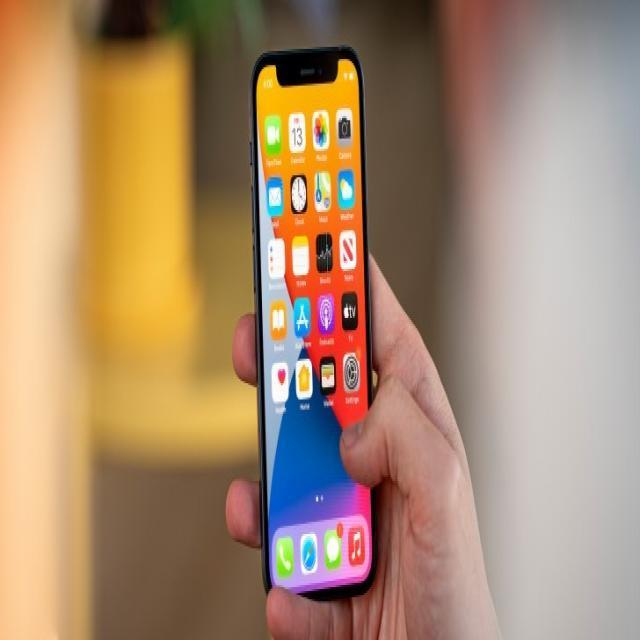Phone: (249, 44, 382, 603)
